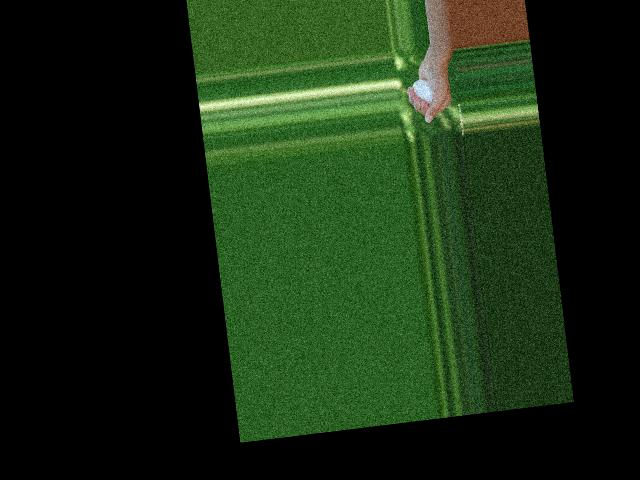egg: (412, 78, 433, 106)
